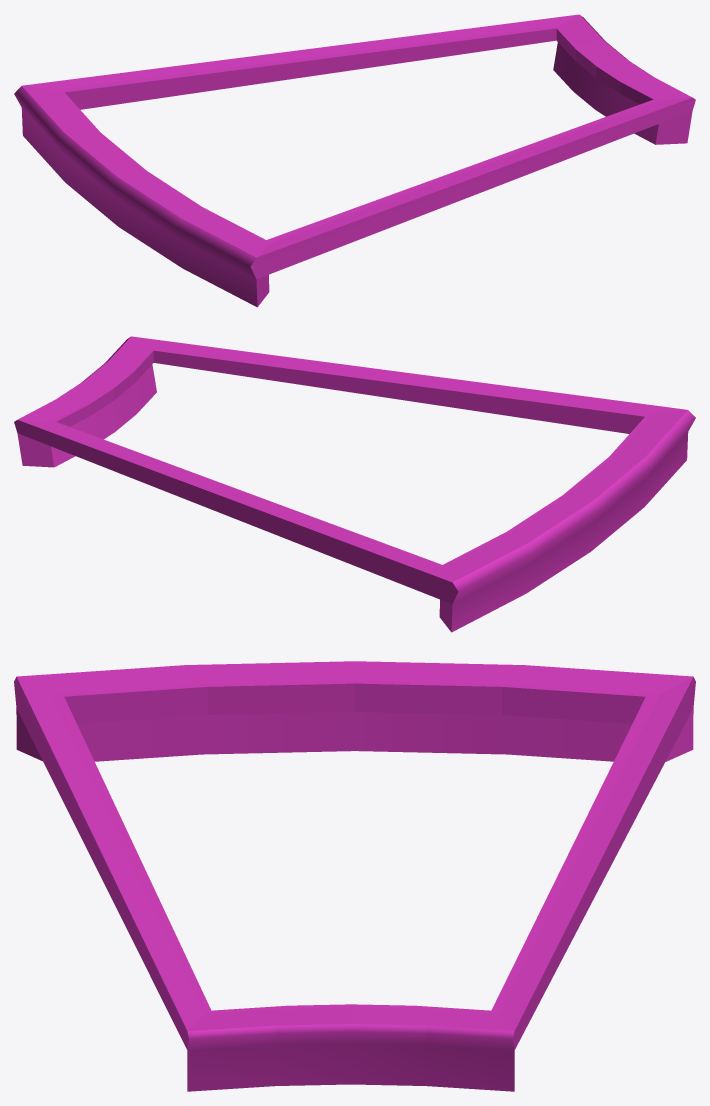
File: Code_Cylinder_Metal_02.fbx
3 renders of one model, top to bottom at view 1: azimuth 30°, elevation 25°; view 2: azimuth 150°, elevation 25°; view 3: azimuth 270°, elevation 25°, orthographic. The views are drawn at different scales.
Parts seen in each view (by area): view 1: Code_Cylinder_Metal_02; view 2: Code_Cylinder_Metal_02; view 3: Code_Cylinder_Metal_02.
Part boxes in pixels (<box>): Code_Cylinder_Metal_02: <box>14,14,695,307</box>; Code_Cylinder_Metal_02: <box>14,336,695,632</box>; Code_Cylinder_Metal_02: <box>14,661,695,1091</box>.
Bounding box in the file's own units: 27.09 × 2.46 × 21.01.
